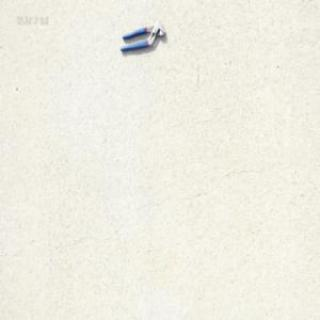Pliertrack_idkeyframe: (118, 20, 166, 51)
